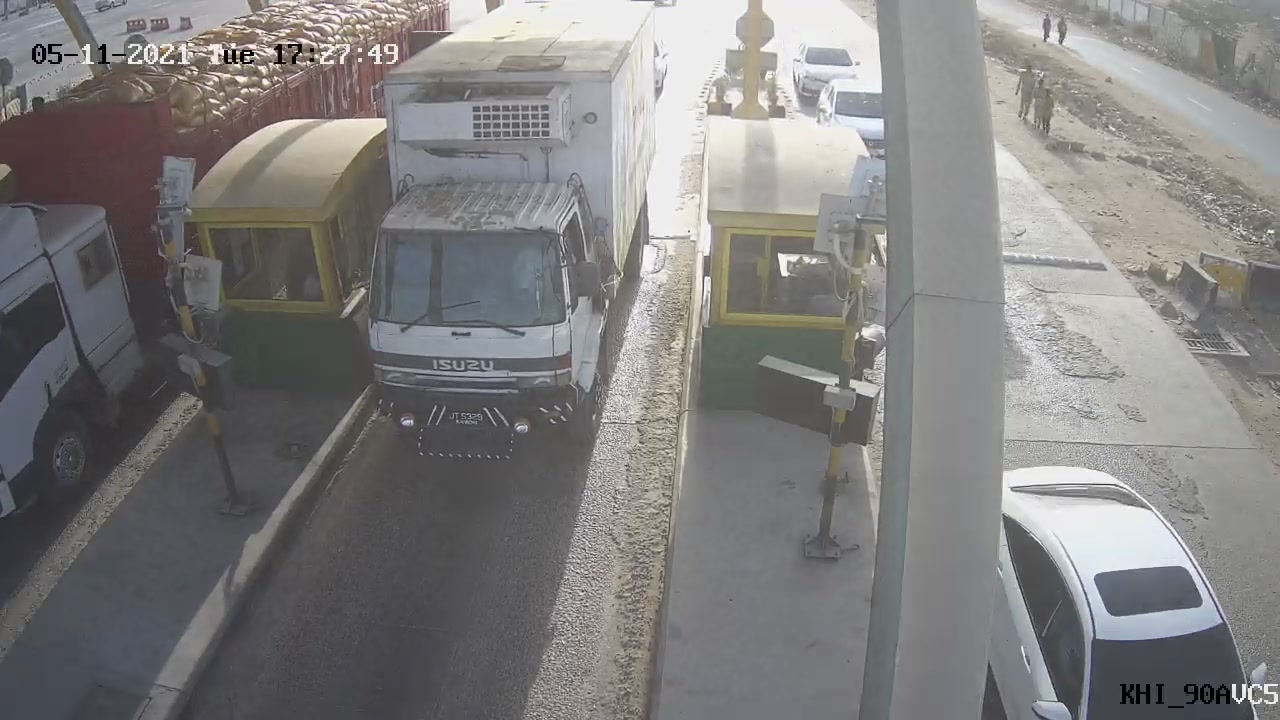F5: (310, 1, 680, 485)
